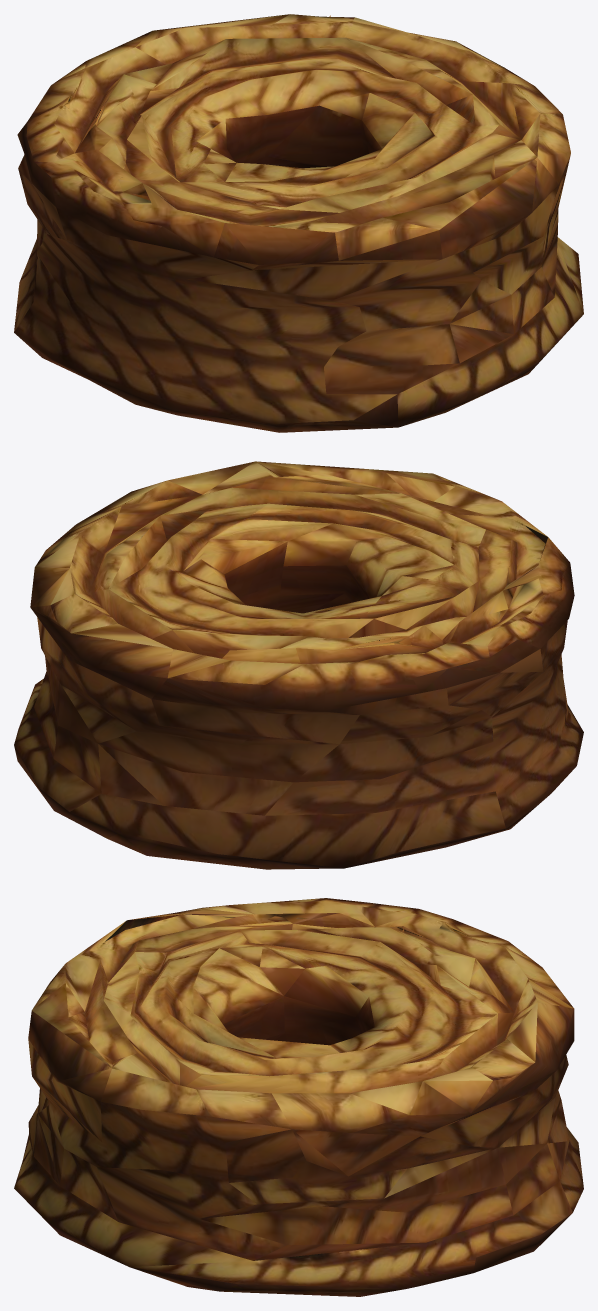
The model's file is rope_coil.glb.
3 renders of one model, top to bottom at view 1: azimuth 30°, elevation 25°; view 2: azimuth 150°, elevation 25°; view 3: azimuth 270°, elevation 25°, orthographic. The views are drawn at different scales.
Visible parts, largest first — view 1: geometry_0; view 2: geometry_0; view 3: geometry_0.
Part boxes in pixels (x1=…): geometry_0: x1=14, y1=14, x2=583, y2=432; geometry_0: x1=14, y1=461, x2=583, y2=869; geometry_0: x1=14, y1=898, x2=583, y2=1296.
Size of the model in its own units: 1.3 by 0.4924 by 1.31.
1 material, 1 textured.
